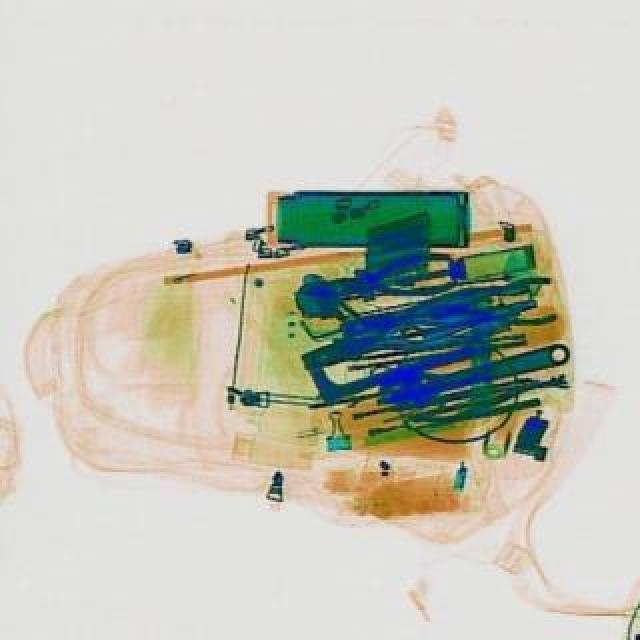scissors: (370, 332, 572, 416)
wrench: (296, 244, 456, 312), (422, 272, 556, 336)
